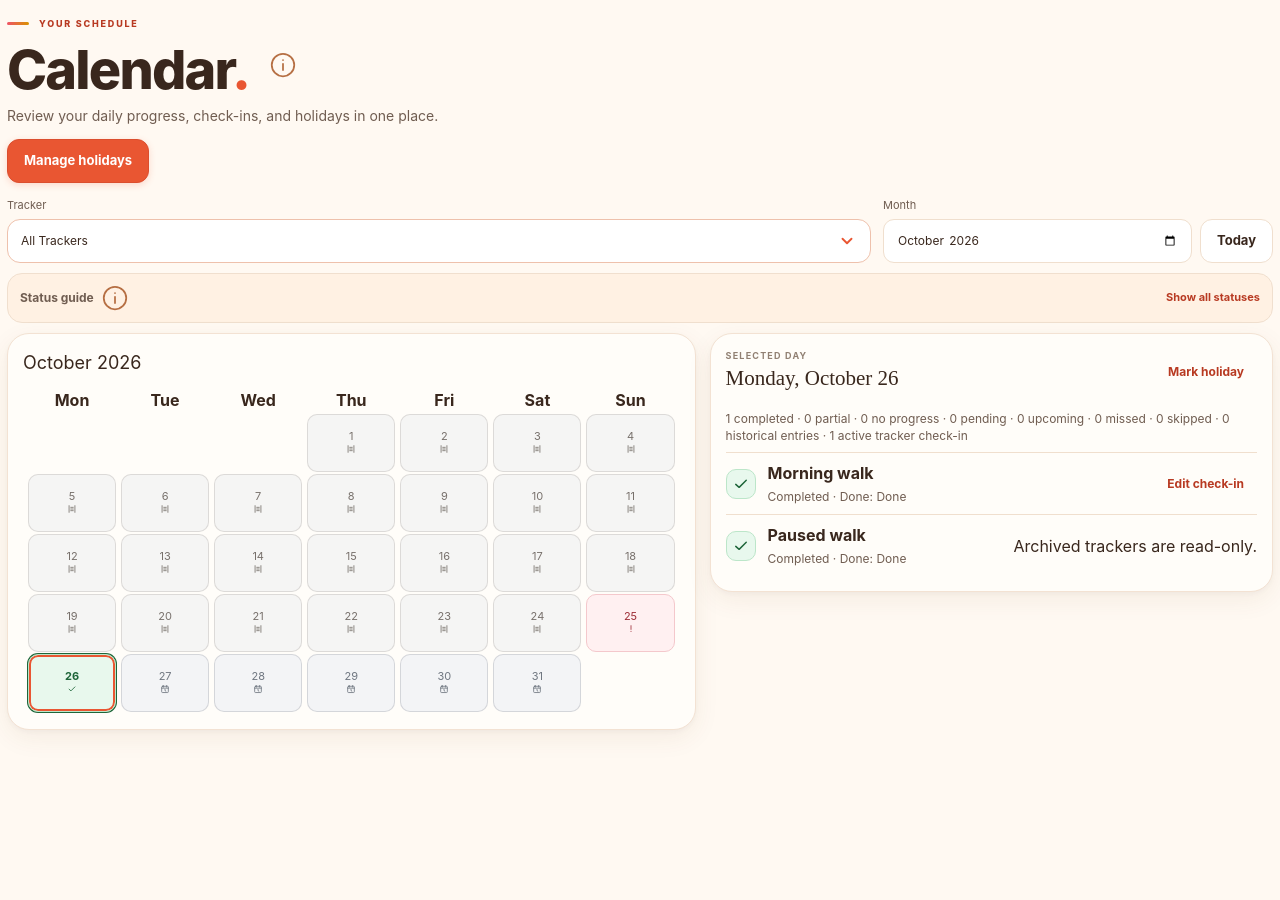
it: Calendar page › uses active trackers for aggregate counts while preserving selected inactive history
Check: the text "1 active tracker check-in" is shown, box [726, 410, 1257, 444]
Check: the text "Paused walk" is shown, box [768, 525, 866, 545]
Select "Paused walk" in the dropdown labelled "Tracker" at (439, 240), box [7, 218, 871, 262]
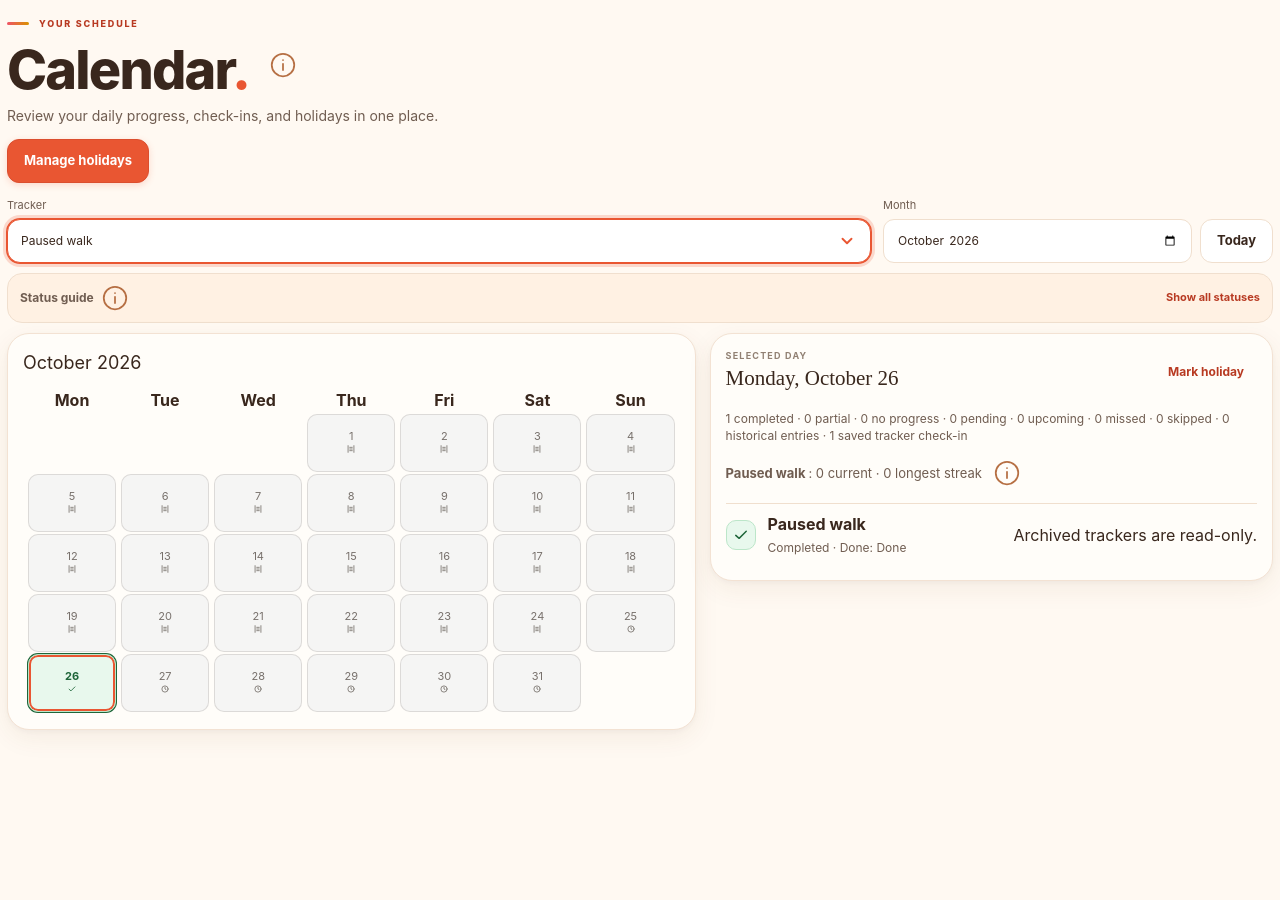
Check: the text "1 saved tracker check-in" is shown, box [726, 410, 1257, 444]
